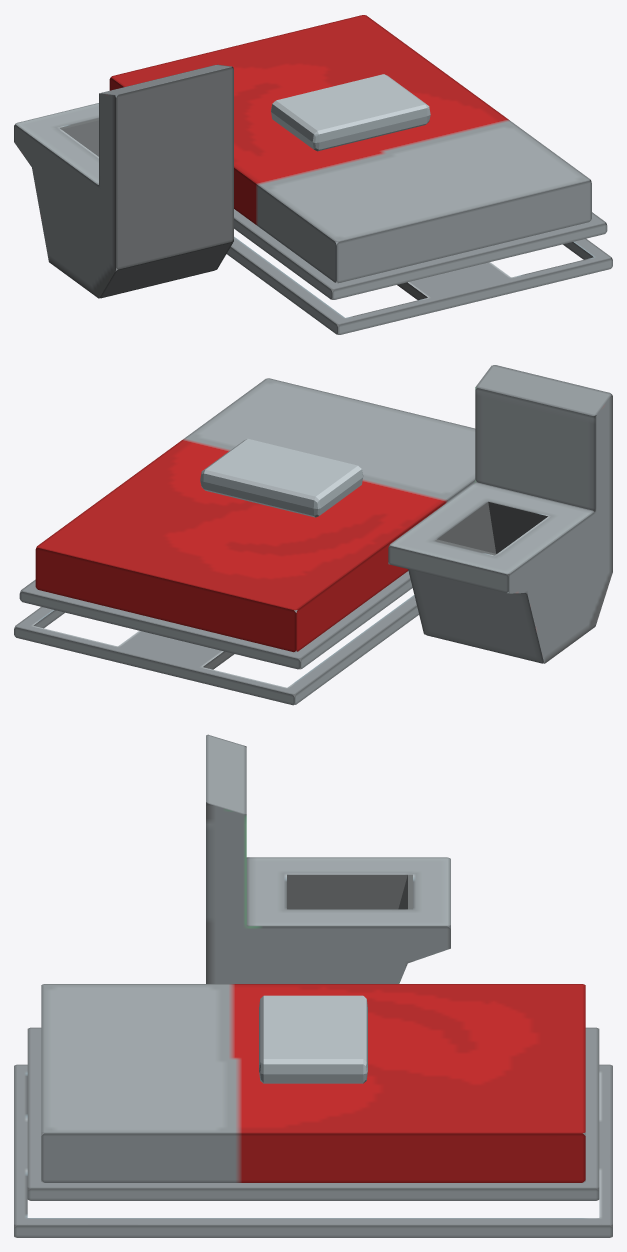
File: CelEnvironments.fbx
The picture shows the model from 3 angles, top to bottom: view 1: azimuth 30°, elevation 25°; view 2: azimuth 150°, elevation 25°; view 3: azimuth 270°, elevation 25°; orthographic projection. The views are drawn at different scales.
Visible parts, largest first — view 1: Bed, Toilet, Pillow; view 2: Bed, Toilet, Pillow; view 3: Bed, Toilet, Pillow.
Boxes of the visible parts, x1,y1,x2,y2 form: Bed: (109, 15, 612, 334); Toilet: (14, 64, 233, 298); Pillow: (271, 74, 430, 151); Bed: (14, 378, 475, 705); Toilet: (388, 365, 612, 663); Pillow: (200, 439, 363, 517); Bed: (14, 984, 612, 1237); Toilet: (206, 734, 450, 983); Pillow: (259, 995, 367, 1083).
Bounding box in the file's own units: 265 × 132 × 275.
